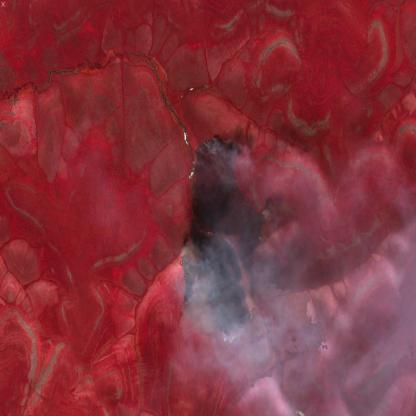fire: (178, 129, 269, 329)
